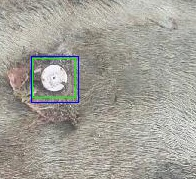text: (32, 58, 75, 97)
